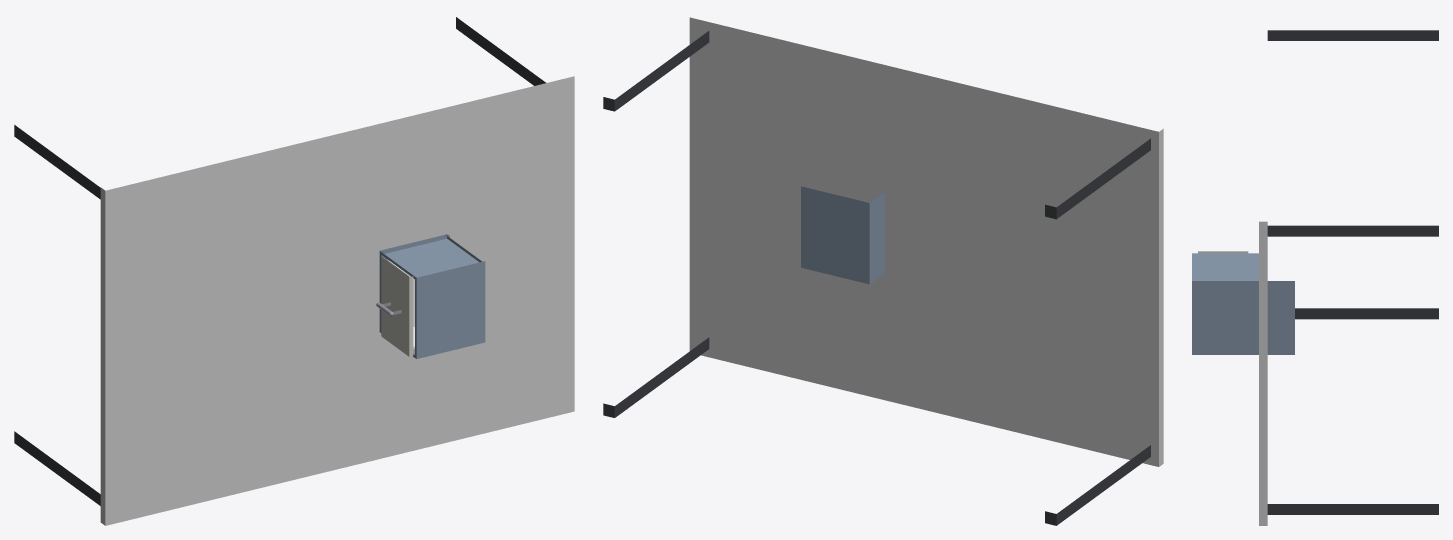
File: t2_ce4e761fdf.glb
The picture shows the model from 3 angles, left to right: view 1: azimuth 30°, elevation 25°; view 2: azimuth 150°, elevation 25°; view 3: azimuth 270°, elevation 25°; orthographic projection. The views are drawn at different scales.
Visible parts, largest first — view 1: s0, s1, s2; view 2: s0, s1; view 3: s0, s1.
Part boxes in pixels (box(x1,y1,x2,y2)): s0: box(14, 17, 574, 525); s1: box(379, 234, 485, 358); s2: box(376, 257, 414, 356); s0: box(603, 17, 1163, 525); s1: box(801, 186, 884, 284); s0: box(1259, 30, 1438, 525); s1: box(1192, 253, 1294, 354).
Size of the model in its own units: 2.05 by 1.4 by 1.03.
